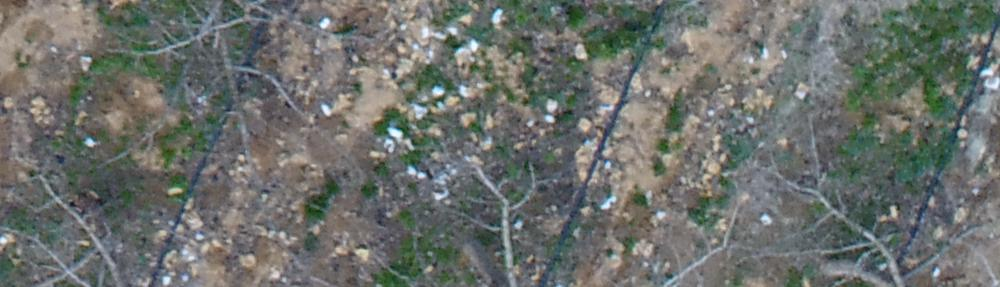apple: (91, 10, 361, 168)
